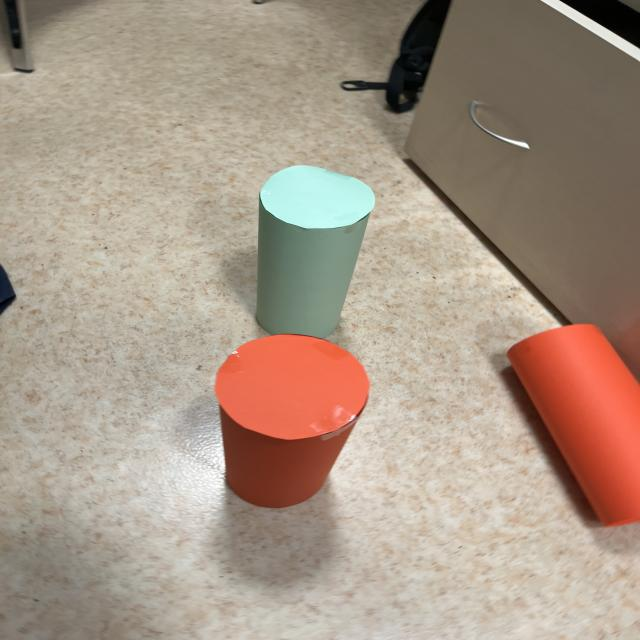meta: (256, 165, 375, 338)
przeszkoda: (215, 334, 369, 508), (508, 325, 640, 526)
